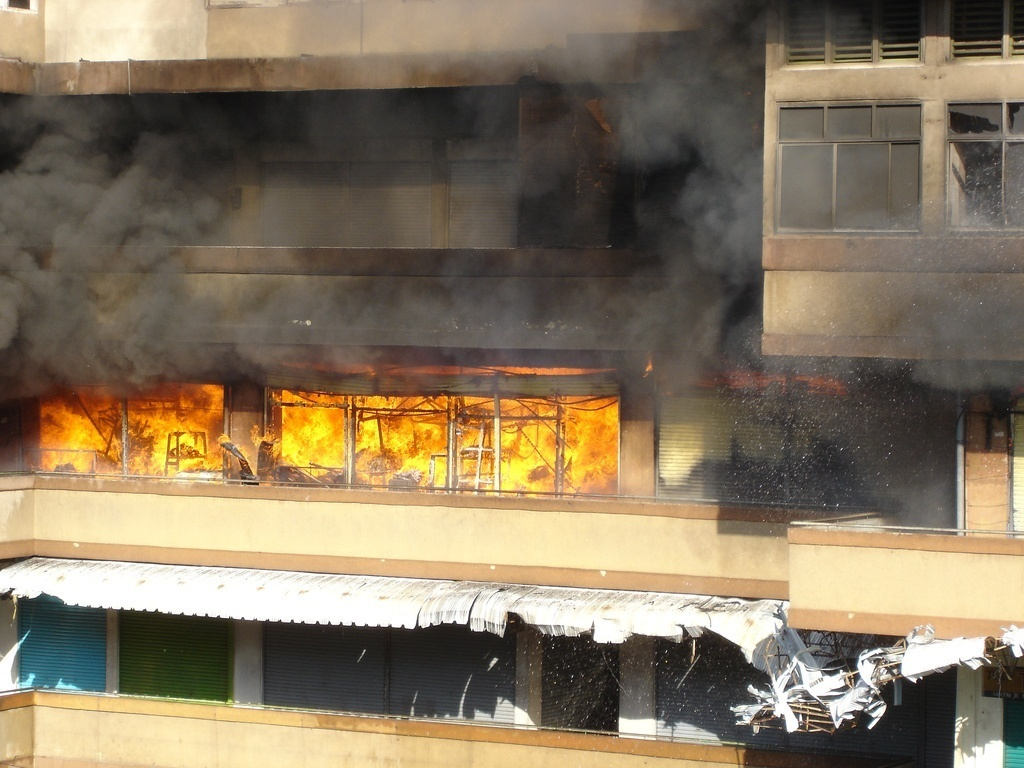fire: (42, 377, 615, 486)
